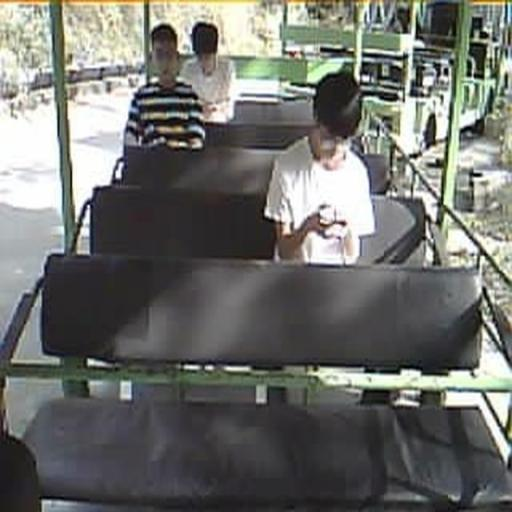persona: (263, 69, 376, 266), (122, 22, 208, 161), (178, 20, 236, 116)
